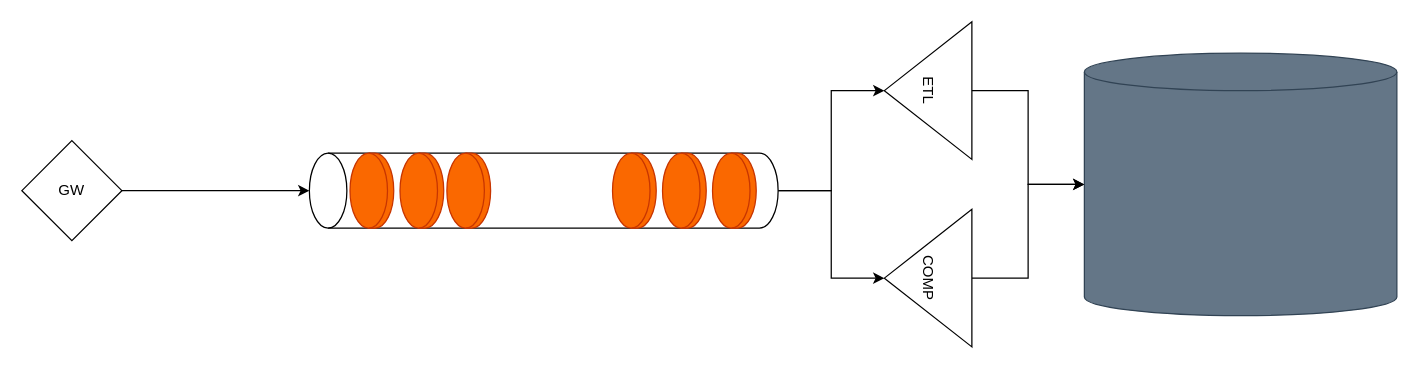
The diagram is 1419 pixels wide and 369 high, and some of its shapes have lost their labels. Each missing label, with the centre of its shape:
"ELASTIC" goes at (x=1240, y=184).
"QUEUE" goes at (x=543, y=190).
